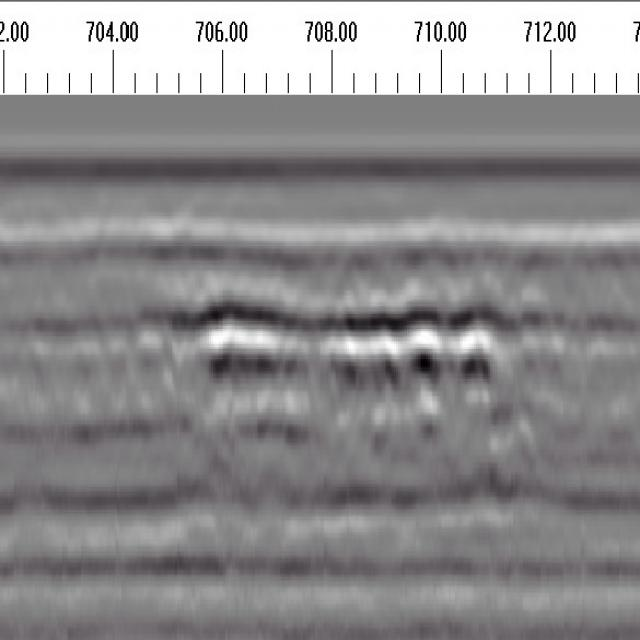loose: (183, 245, 515, 420)
